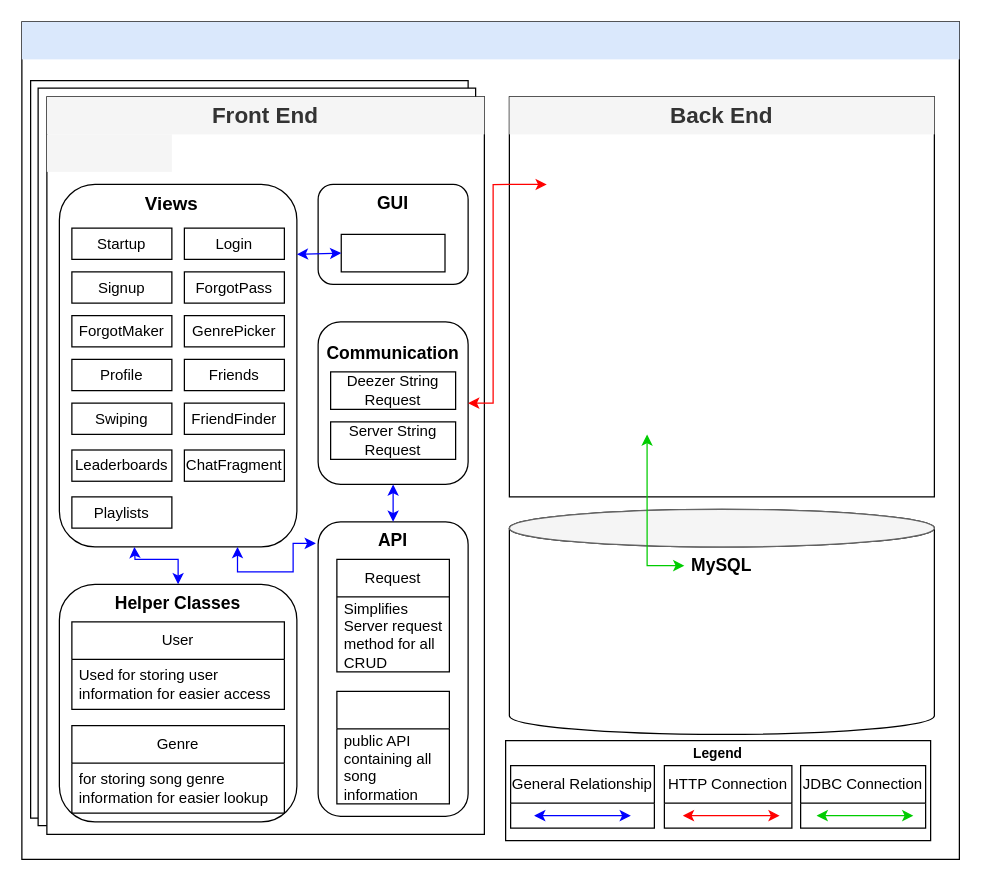
Image size: 981x881. Some labels were removed from this diagram. The box of each missing label's shape, as (x1, y1, x2, y2) in pixels:
Android User: (46, 134, 171, 171)
BeatMatch Block Diagram: (21, 21, 959, 59)
Database: (508, 508, 934, 547)
Deezer: (336, 690, 449, 804)
XML layout files: (340, 233, 445, 272)
